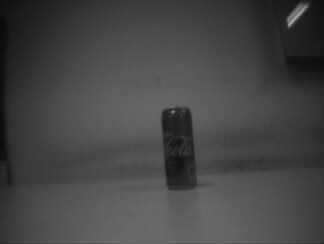Tin can: (160, 106, 198, 191)
